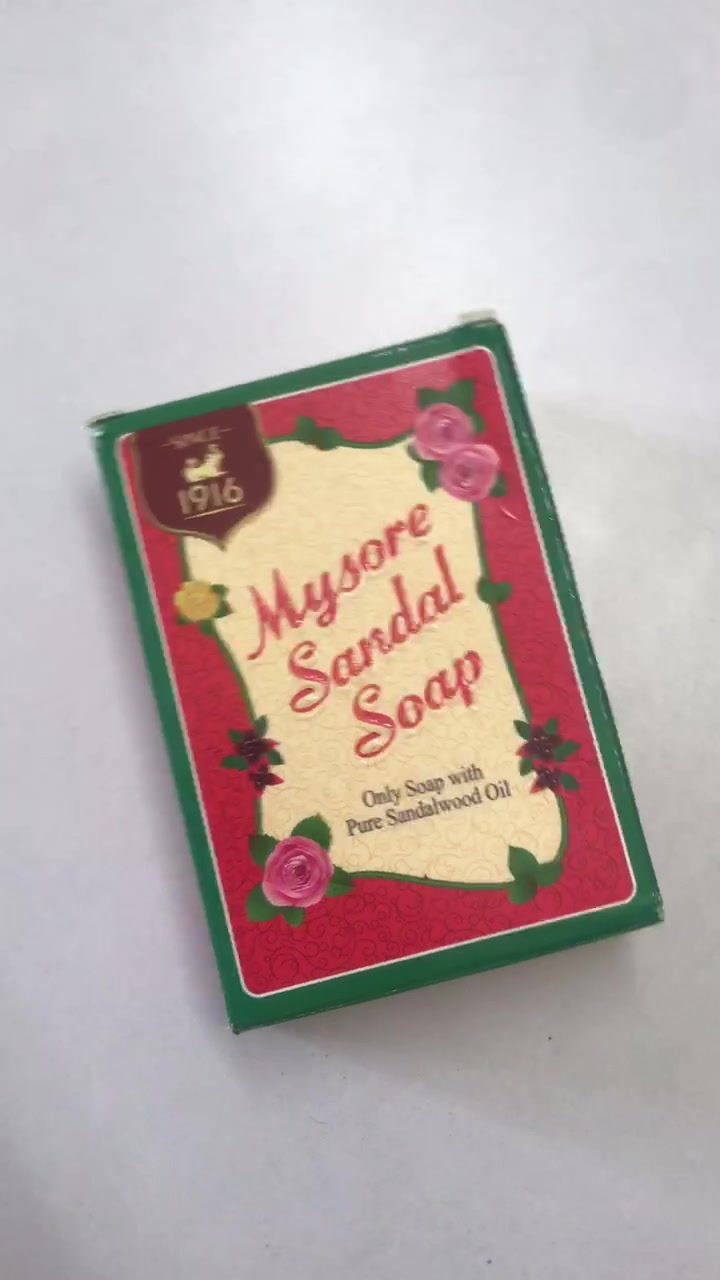mysore sandal soap: (99, 328, 666, 1030)
